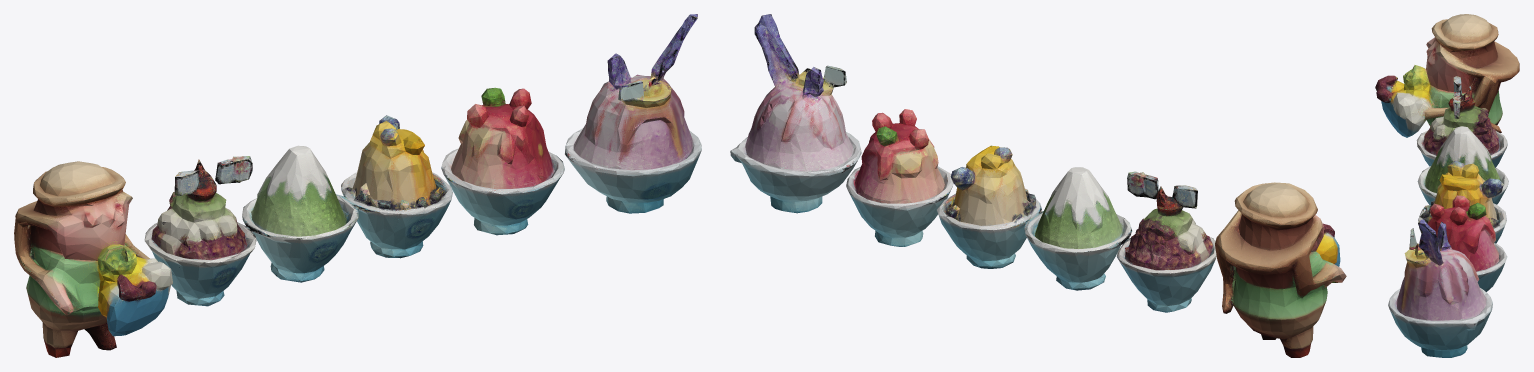
File: feature_graphic.glb
The picture shows the model from 3 angles, left to right: view 1: azimuth 30°, elevation 25°; view 2: azimuth 150°, elevation 25°; view 3: azimuth 270°, elevation 25°; orthographic projection. The views are drawn at different scales.
Visible parts, largest first — view 1: world; view 2: world; view 3: world.
Boxes of the visible parts, bbox=[...] form: world: bbox=[14, 14, 701, 357]; world: bbox=[730, 14, 1346, 357]; world: bbox=[1375, 14, 1519, 357].
Bounding box in the file's own units: 1 × 0.3049 × 0.2463.
1 material, 1 textured.
